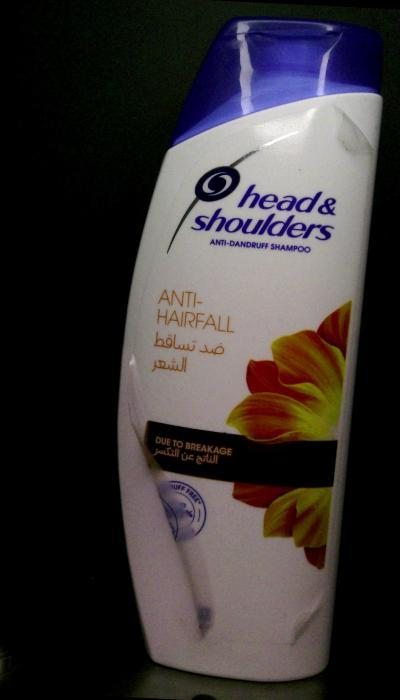adhesion_unacc: (114, 388, 230, 640), (332, 106, 379, 159), (292, 598, 328, 646)
